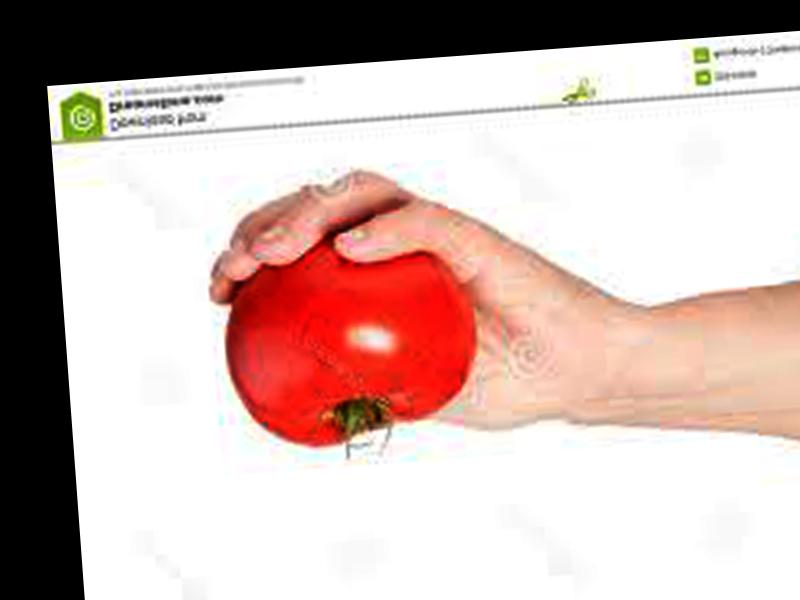Tomato: (218, 225, 486, 455)
